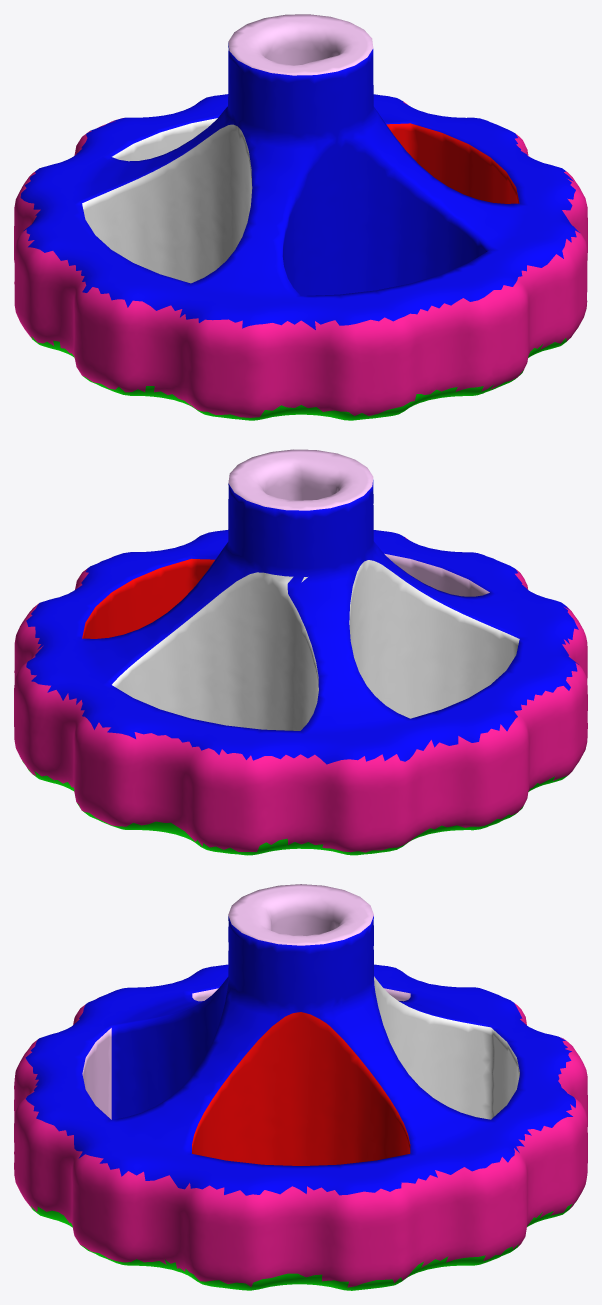
Rendered from model_27209_segmented.obj.
3 renders of one model, top to bottom at view 1: azimuth 30°, elevation 25°; view 2: azimuth 150°, elevation 25°; view 3: azimuth 270°, elevation 25°, orthographic.
Size of the model in its own units: 39.35 by 20.02 by 39.33.
